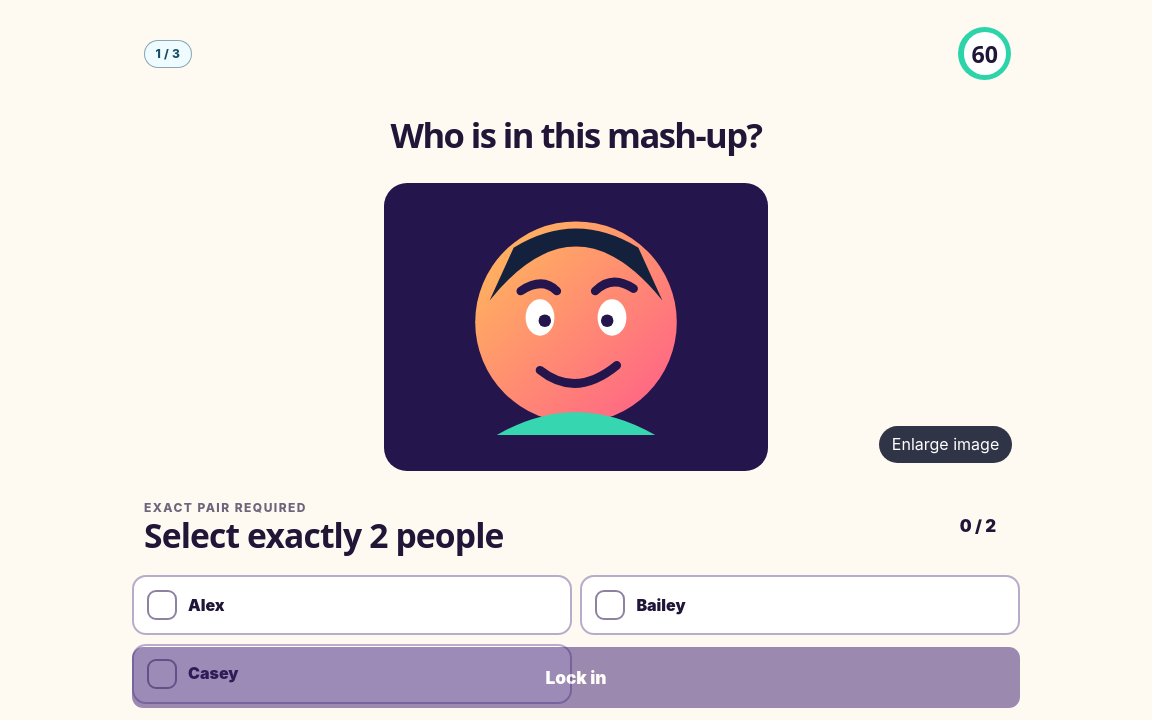
it: PlayerQuestion mash-up › enables submission only when exactly two choices are selected
Expected: the button "Lock in" is disabled, [132,647,1020,708]
Click the button "Alex".
click(206, 605)  # box [132,575,572,635]
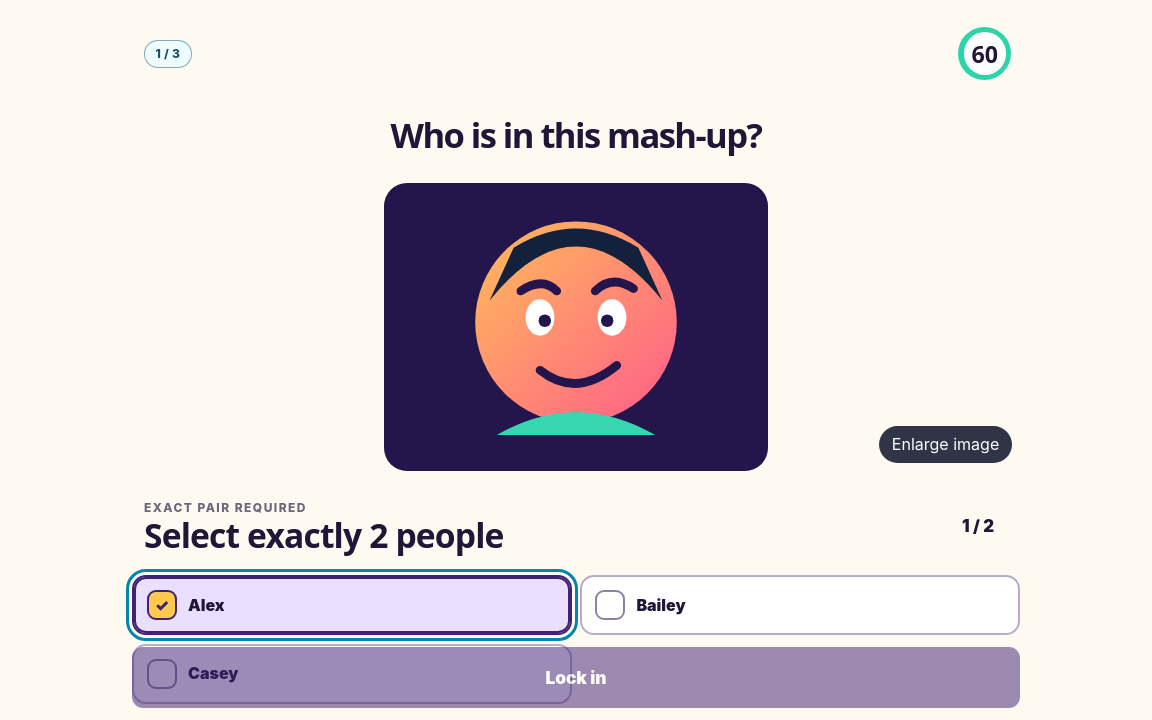
Expected: the button "Lock in" is disabled, [132,647,1020,708]
Click the button "Bailey".
click(661, 605)  # box [580,575,1020,635]
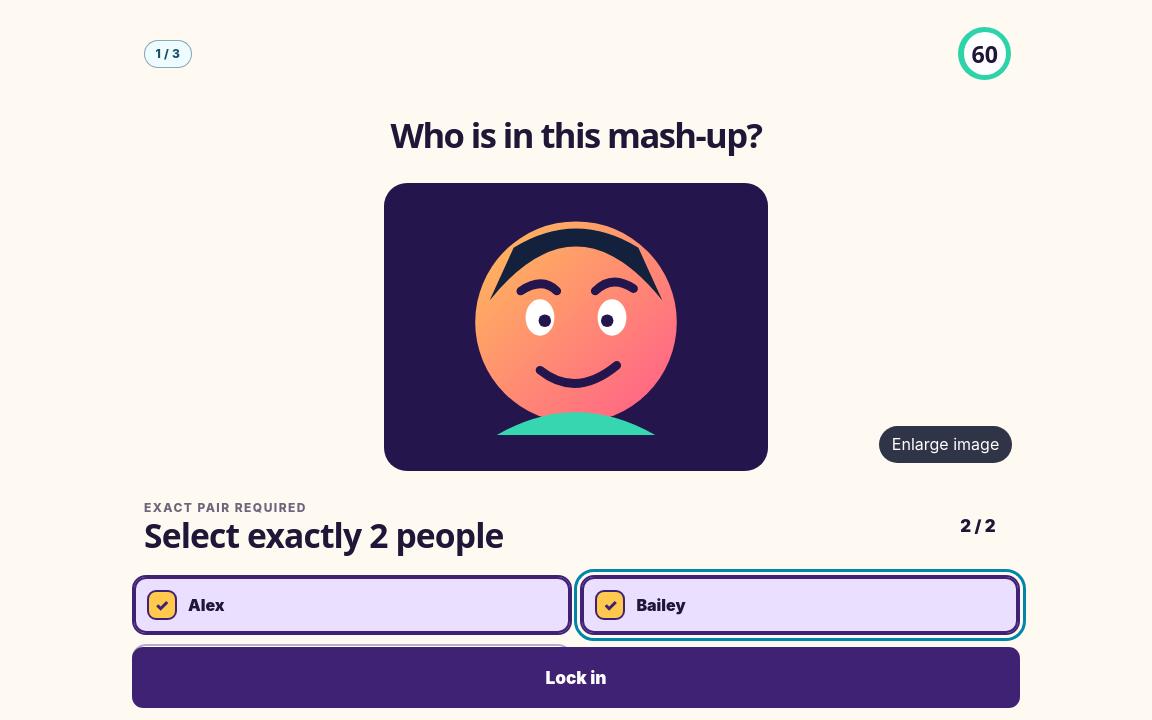
Expected: the button "Lock in" is enabled, [132,647,1020,708]
